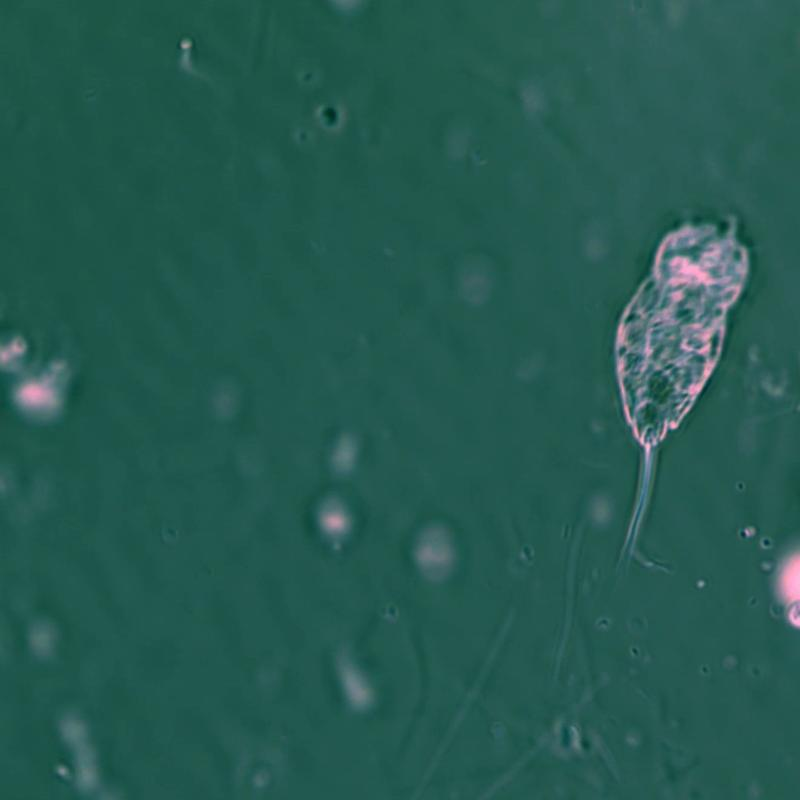depth:20: (598, 194, 781, 591)
